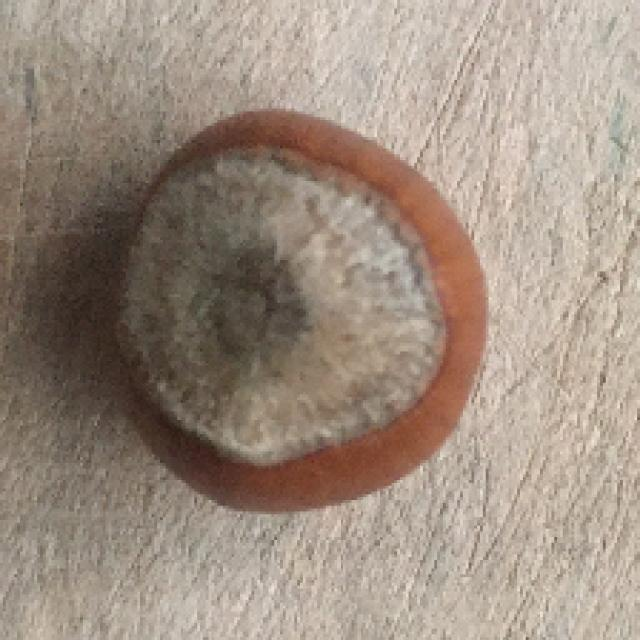qualityHazelnut: (109, 106, 490, 516)
